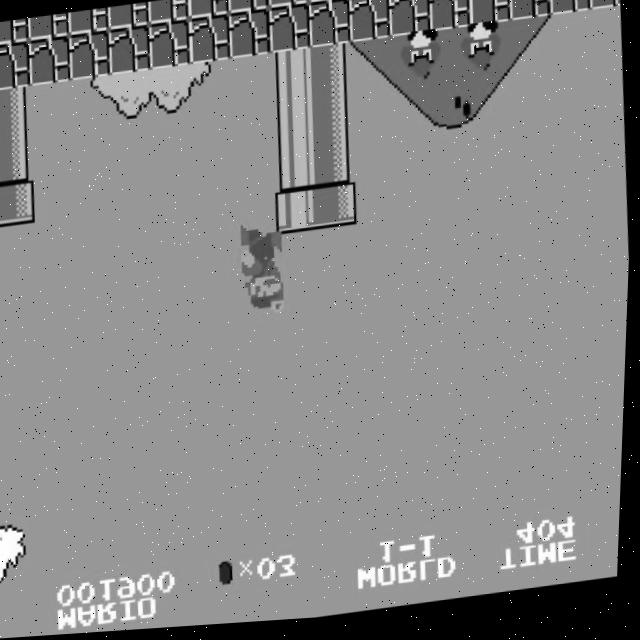0- big_mario: (237, 224, 289, 324)
14- pipe: (310, 92, 356, 143), (272, 143, 318, 193), (271, 97, 316, 148), (269, 52, 314, 103), (309, 47, 354, 98), (313, 138, 358, 188), (0, 131, 36, 182), (0, 86, 34, 137)
15- pipe_head: (274, 188, 320, 239), (314, 183, 360, 234), (0, 177, 38, 227)
17- undestructible_block: (107, 25, 153, 77), (147, 20, 192, 72), (27, 35, 72, 86), (67, 31, 112, 82), (187, 16, 232, 67), (227, 11, 272, 62), (267, 6, 312, 57), (307, 1, 352, 52), (347, 0, 392, 48), (387, 0, 432, 43), (427, 0, 472, 38), (0, 40, 32, 91), (467, 0, 512, 33), (507, 0, 552, 28), (26, 13, 70, 41), (66, 8, 110, 36), (106, 3, 150, 31), (146, 0, 190, 27), (546, 0, 592, 23), (186, 0, 230, 22), (0, 17, 29, 45), (226, 0, 270, 17), (587, 0, 621, 18), (266, 0, 310, 12), (306, 0, 350, 7), (346, 0, 390, 2)
8- goomba: (456, 26, 504, 80), (396, 33, 443, 88)
